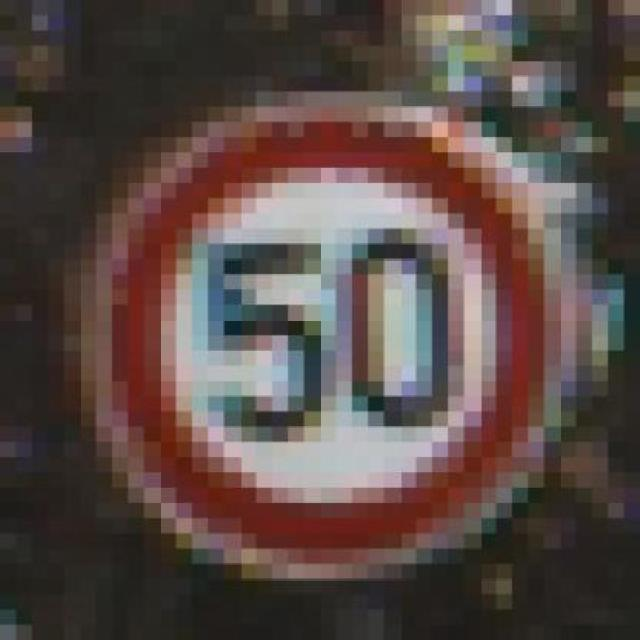50 mph speed limit: (80, 91, 592, 564)
